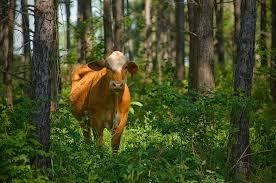cow: (68, 50, 139, 156)
